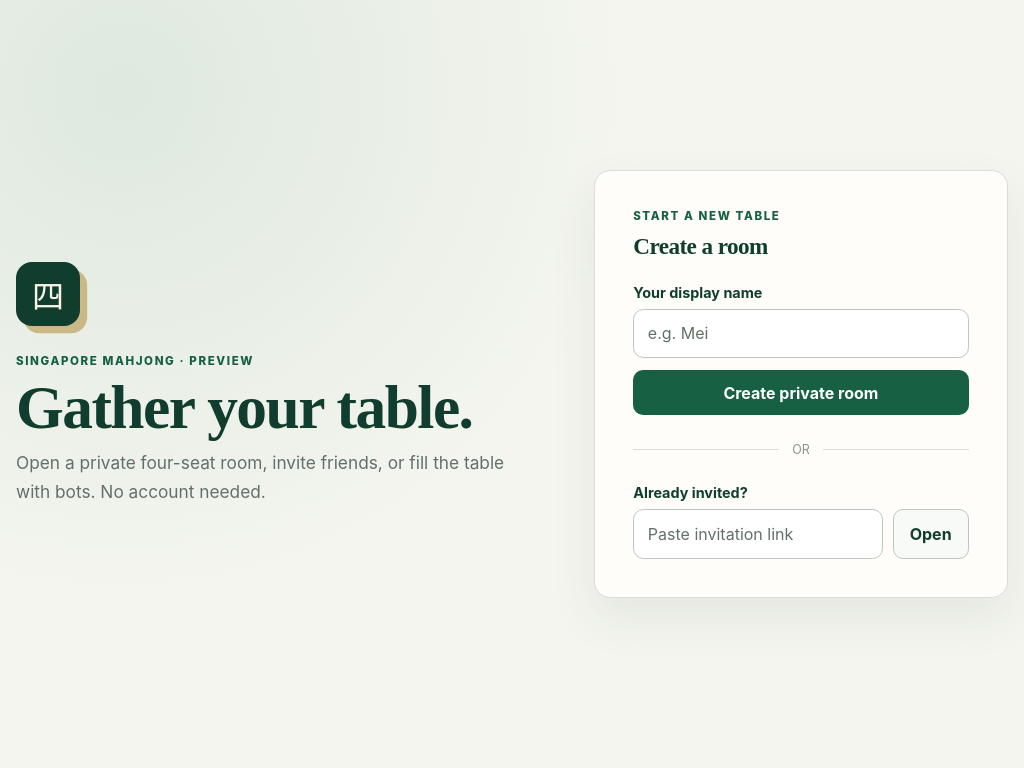
Test: room UI › reports when a newly issued capability cannot be stored
In the field labelled "Your display name": point(801, 333) [633,309,969,358], type "Mei"
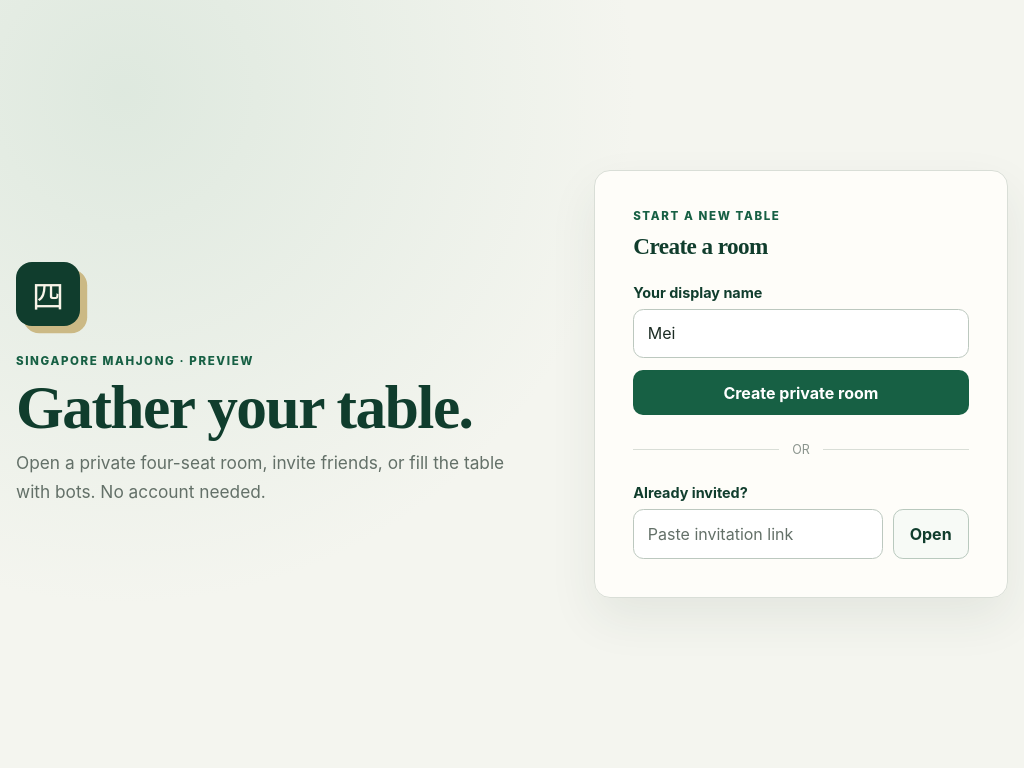
Click the button "Create private room": point(801, 393) [633,370,969,415]
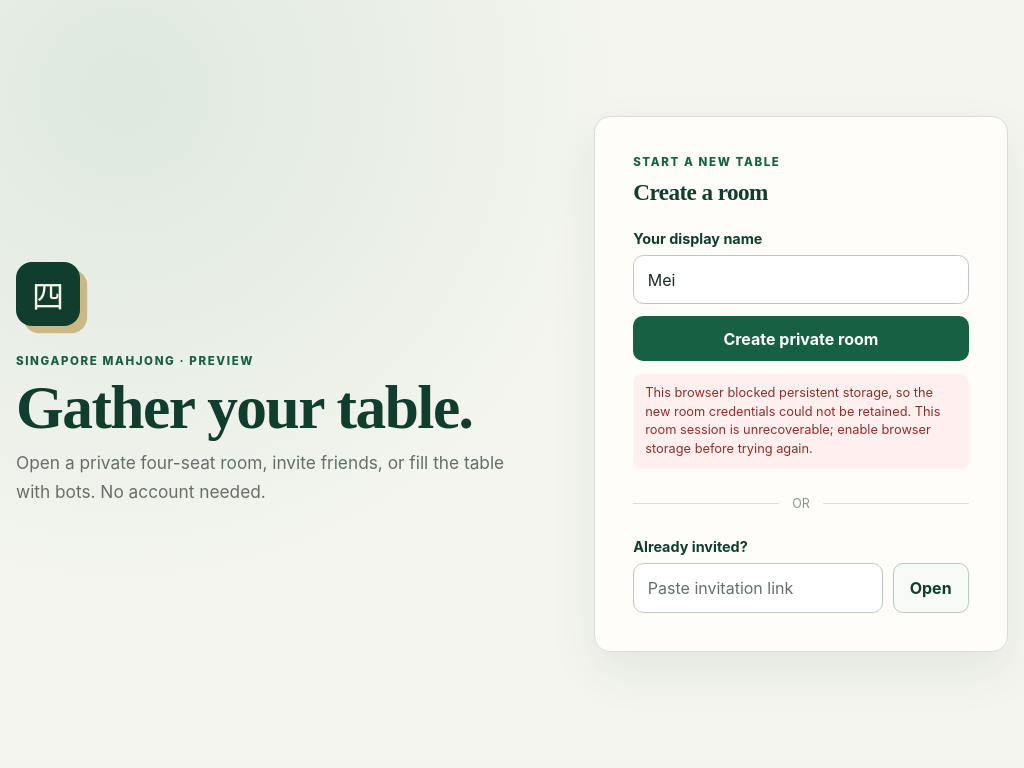
Result: the text "new room credentials could not be retained" is shown at [645,385,940,456]
